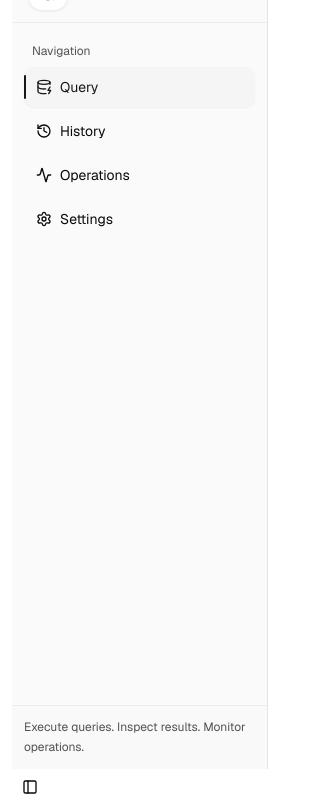
Scenario: Sidebar shell › expands desktop navigation labels when toggled again
This screenshot has width=332, height=805.
(page scrolled)
Click the button named "toggle sidebar" at (30, 787), box [12,769,48,804]
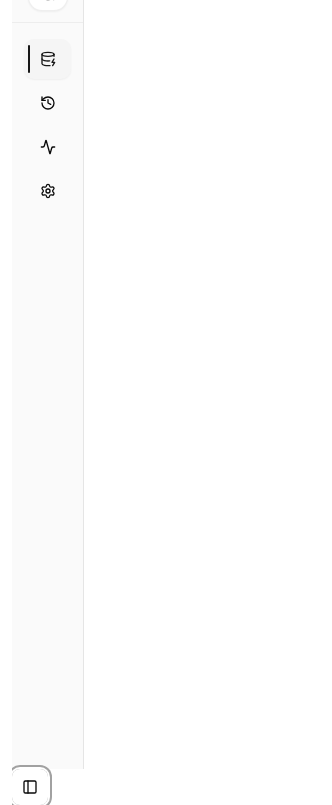
Click the button named "toggle sidebar" at (30, 787), box [12,769,48,804]
(page scrolled)
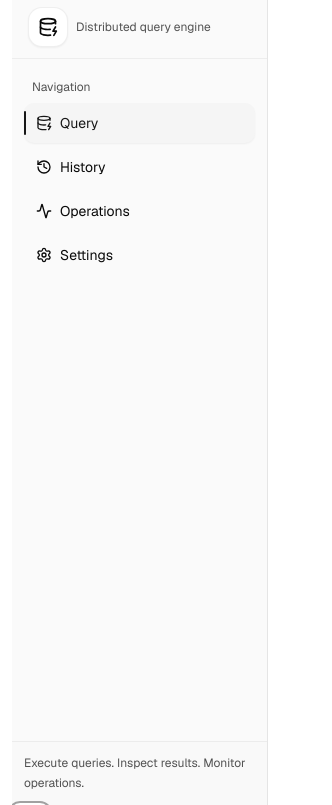
Now the text "Query" is shown, box [60,113,98,133]
Now the text "Distributed query engine" is shown, box [76,18,211,34]
